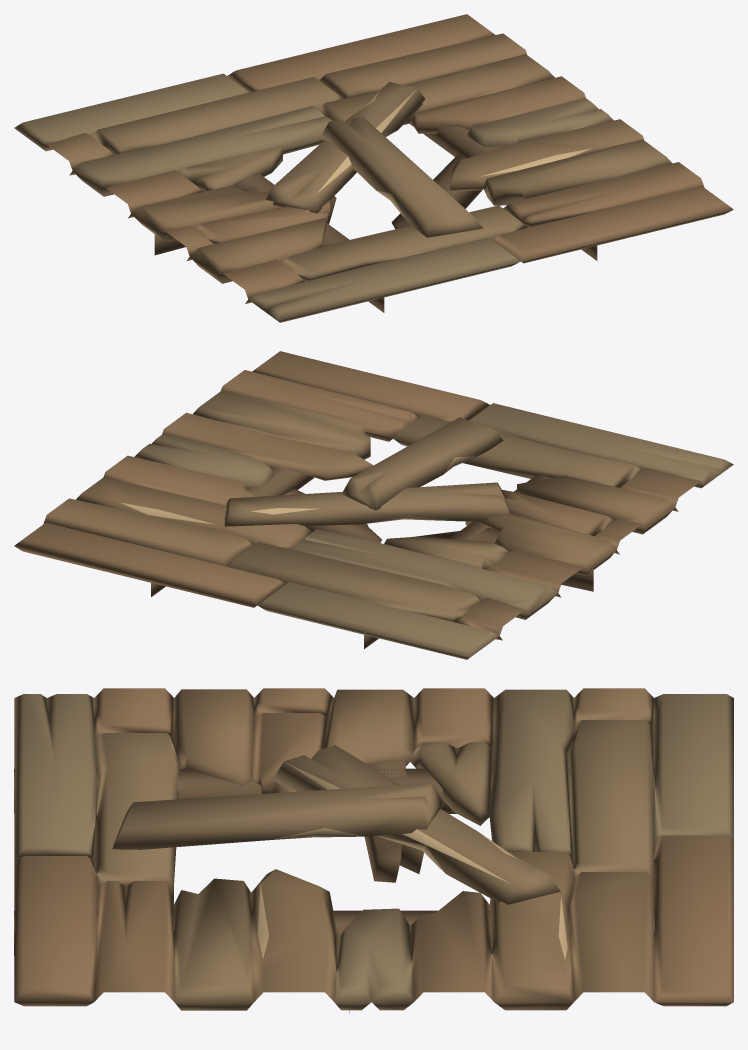
Rendered from rpgpp_av_floor_01a_3x3_2side.gltf.
3 renders of one model, top to bottom at view 1: azimuth 30°, elevation 25°; view 2: azimuth 150°, elevation 25°; view 3: azimuth 270°, elevation 25°, orthographic. The views are drawn at different scales.
Visible parts, largest first — view 1: rpgpp_av_floor_01a_3x3_2side; view 2: rpgpp_av_floor_01a_3x3_2side; view 3: rpgpp_av_floor_01a_3x3_2side.
Boxes of the visible parts, x1=… form: rpgpp_av_floor_01a_3x3_2side: x1=14, y1=14, x2=733, y2=322; rpgpp_av_floor_01a_3x3_2side: x1=14, y1=351, x2=733, y2=659; rpgpp_av_floor_01a_3x3_2side: x1=14, y1=688, x2=733, y2=1013.
Bounding box in the file's own units: 0.03 × 0.00677 × 0.03.
1 material, 1 textured.
